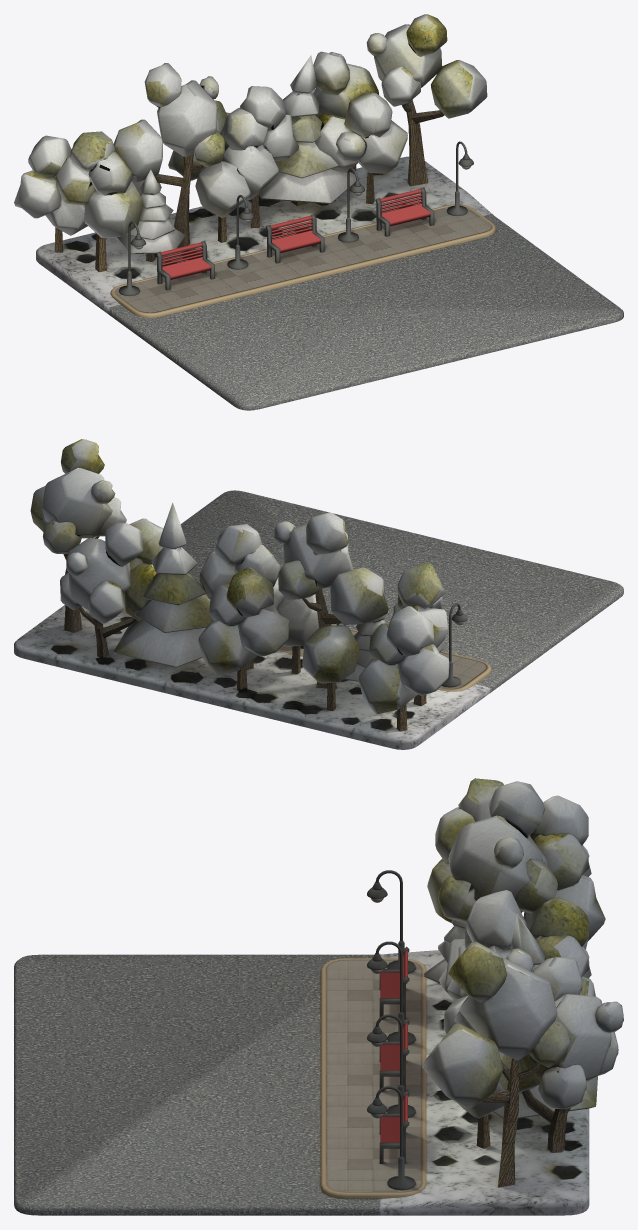
File: winter_pak_test_01.FBX
3 views of the same model, one above another, from view 1: azimuth 30°, elevation 25°; view 2: azimuth 150°, elevation 25°; view 3: azimuth 270°, elevation 25° (orthographic). The views are drawn at different scales.
Parts seen in each view (by area): view 1: winter_park_test_01; view 2: winter_park_test_01; view 3: winter_park_test_01.
Boxes of the visible parts, x1=… form: winter_park_test_01: x1=14, y1=14, x2=623, y2=410; winter_park_test_01: x1=14, y1=439, x2=623, y2=749; winter_park_test_01: x1=14, y1=778, x2=623, y2=1215.
Bounding box in the file's own units: 78.37 × 31.98 × 71.02.
Materials: 4 (4 with a texture image).
